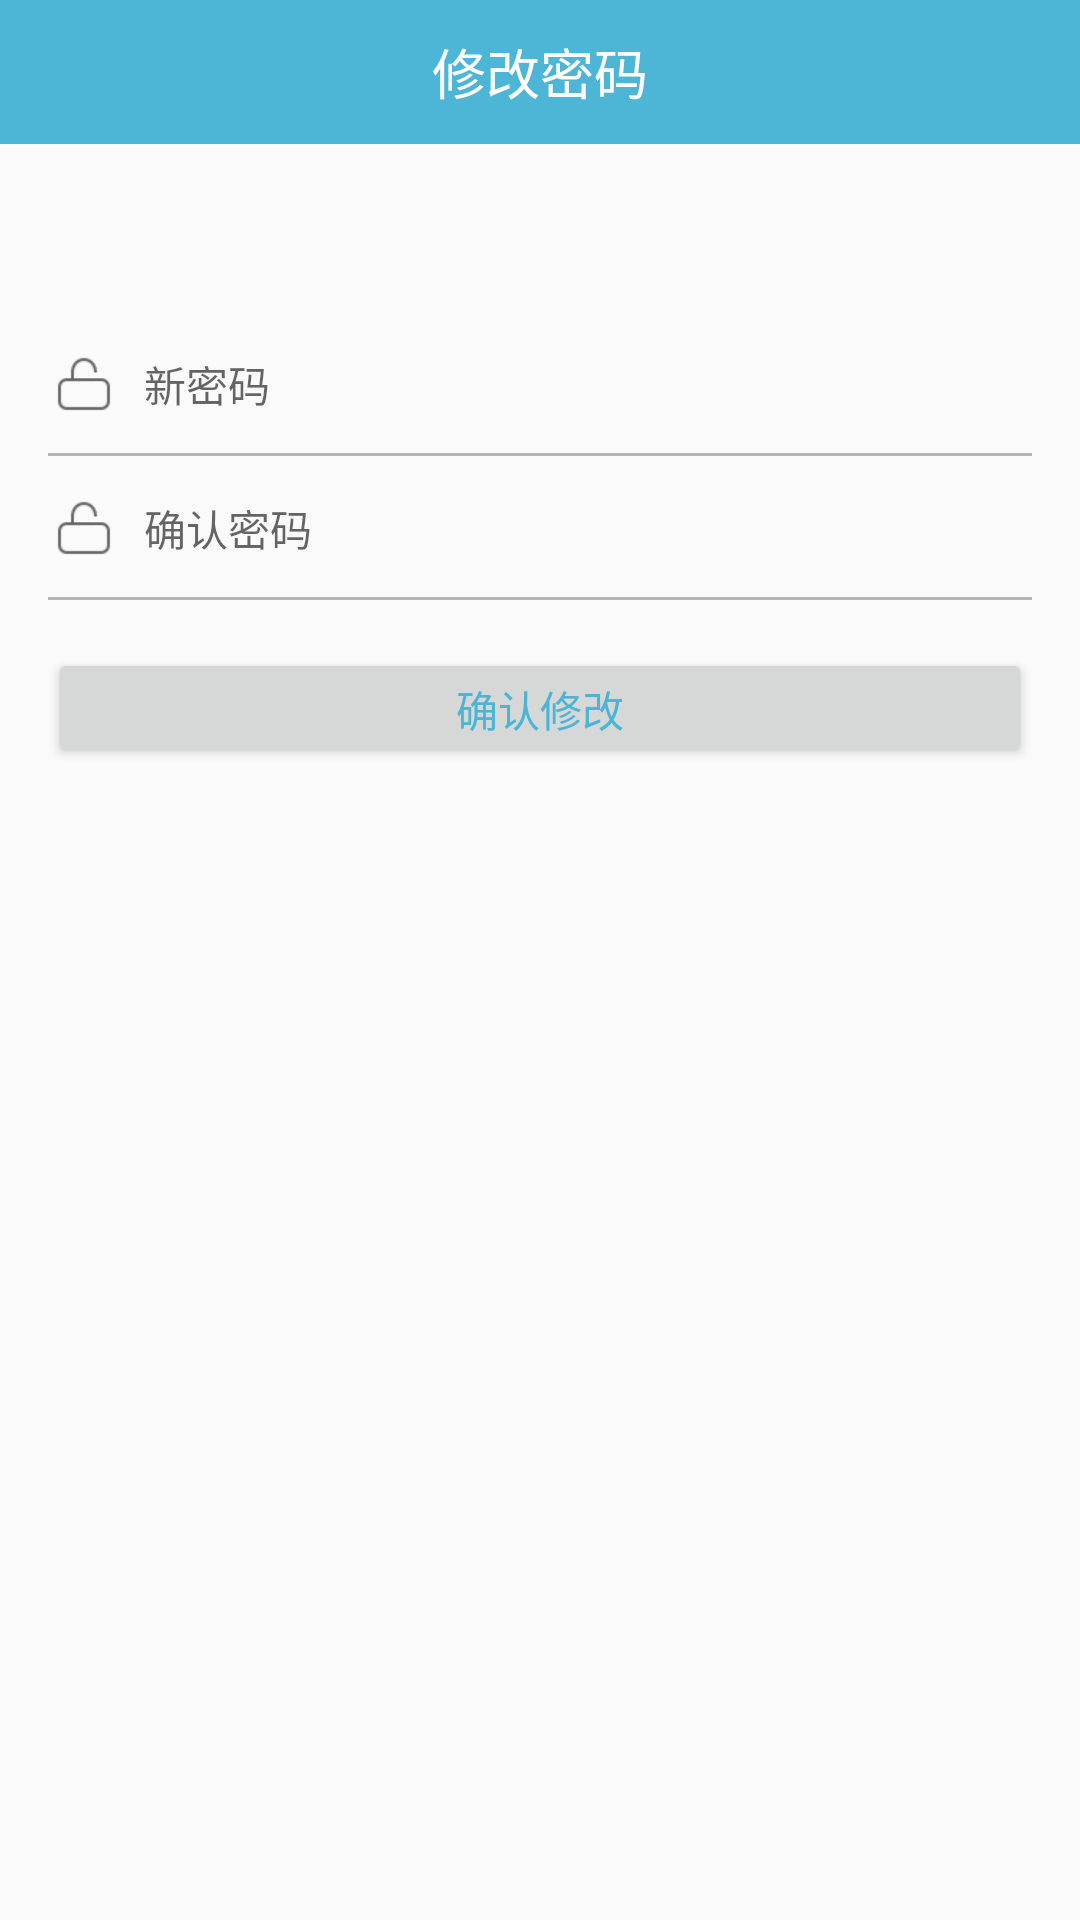

Named icons in this screenshot (1080*1920) and their centers, point (x, y):
register password: point (84, 384), point (84, 528)
